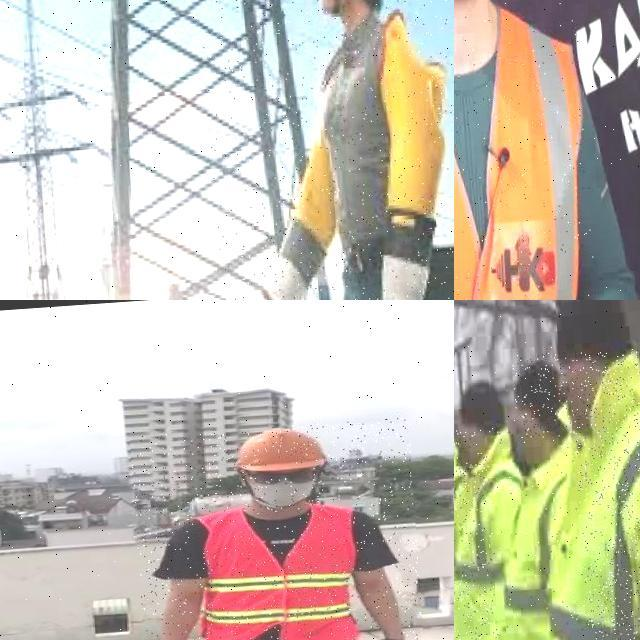helmet: (232, 424, 329, 476)
vest: (454, 0, 600, 300), (511, 341, 640, 640), (487, 435, 599, 640), (191, 504, 357, 640), (454, 425, 540, 640), (454, 435, 484, 640)
